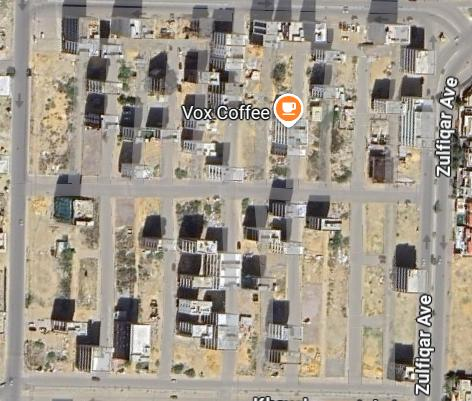Buildings: (26, 197, 97, 372), (32, 18, 104, 174), (362, 204, 420, 385), (368, 22, 424, 188), (177, 19, 234, 180), (110, 199, 161, 372), (298, 202, 348, 376), (238, 200, 286, 378), (174, 199, 222, 376), (306, 20, 356, 184), (244, 18, 292, 182), (115, 20, 166, 172)
